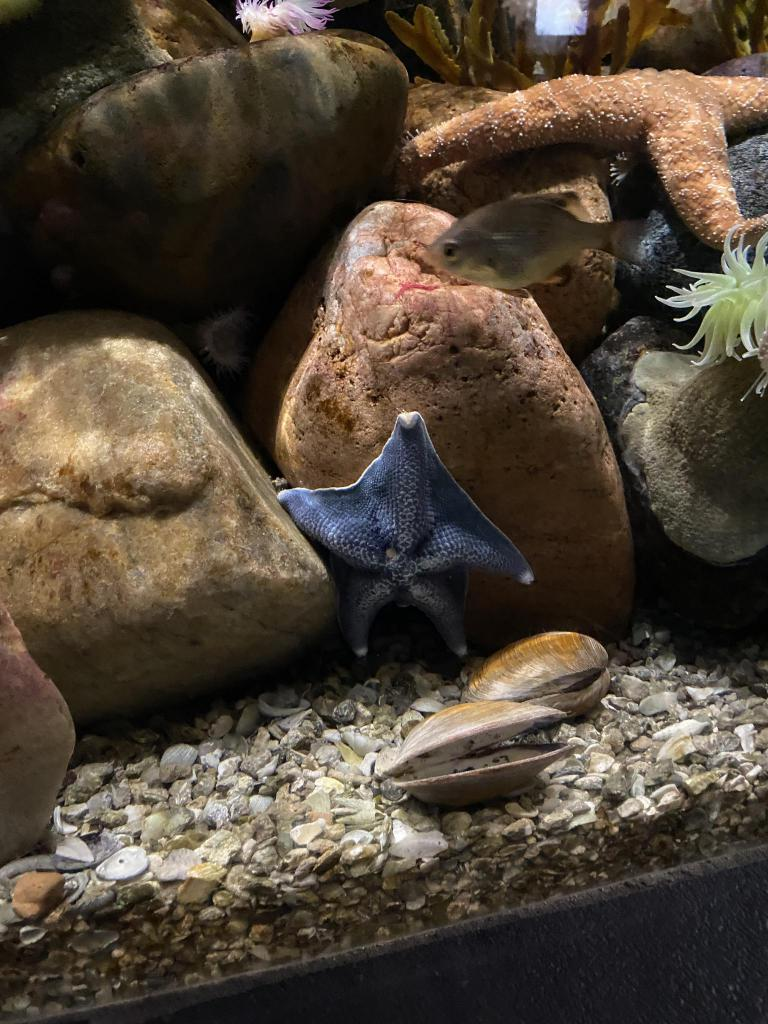Fish: (419, 184, 665, 295)
Starfish: (278, 407, 545, 657)
